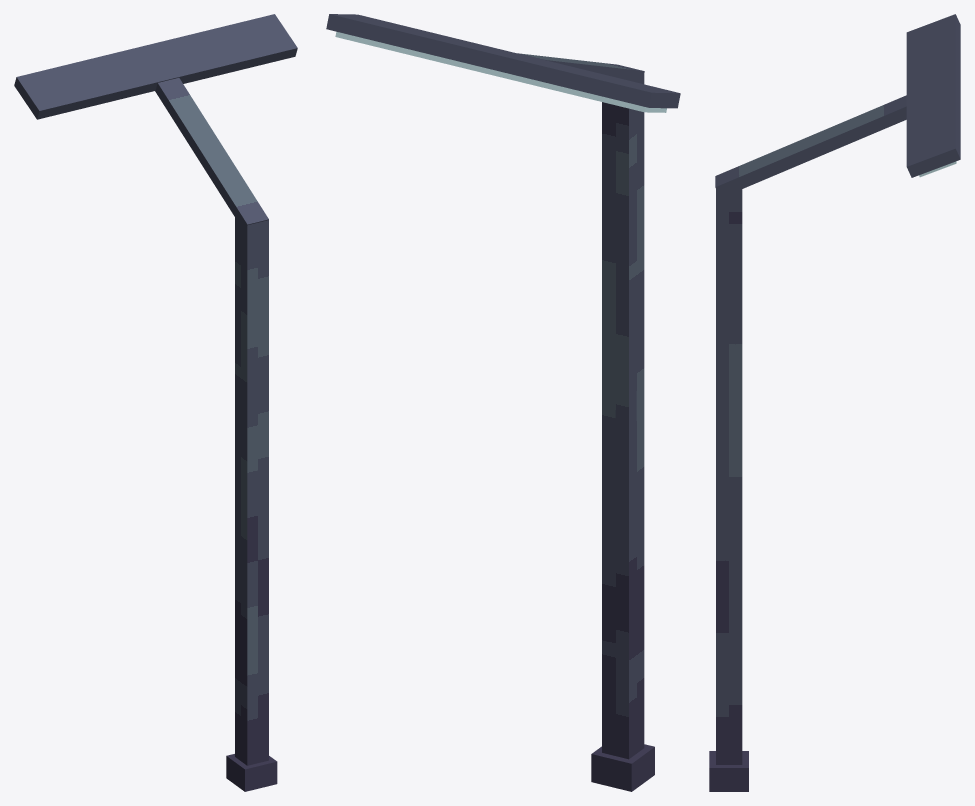
The model's file is Motorway_Light.obj.
3 views of the same model, side by side, from view 1: azimuth 30°, elevation 25°; view 2: azimuth 150°, elevation 25°; view 3: azimuth 270°, elevation 25° (orthographic). The views are drawn at different scales.
Visible parts, largest first — view 1: cuboid; view 2: cuboid; view 3: cuboid.
Boxes of the visible parts, box(x1,y1,x2,y2) form: cuboid: box(14, 14, 297, 791); cuboid: box(326, 14, 680, 791); cuboid: box(709, 14, 960, 791).
Bounding box in the file's own units: 1.5 × 3.65 × 1.19.
Materials: 1 (1 with a texture image).
